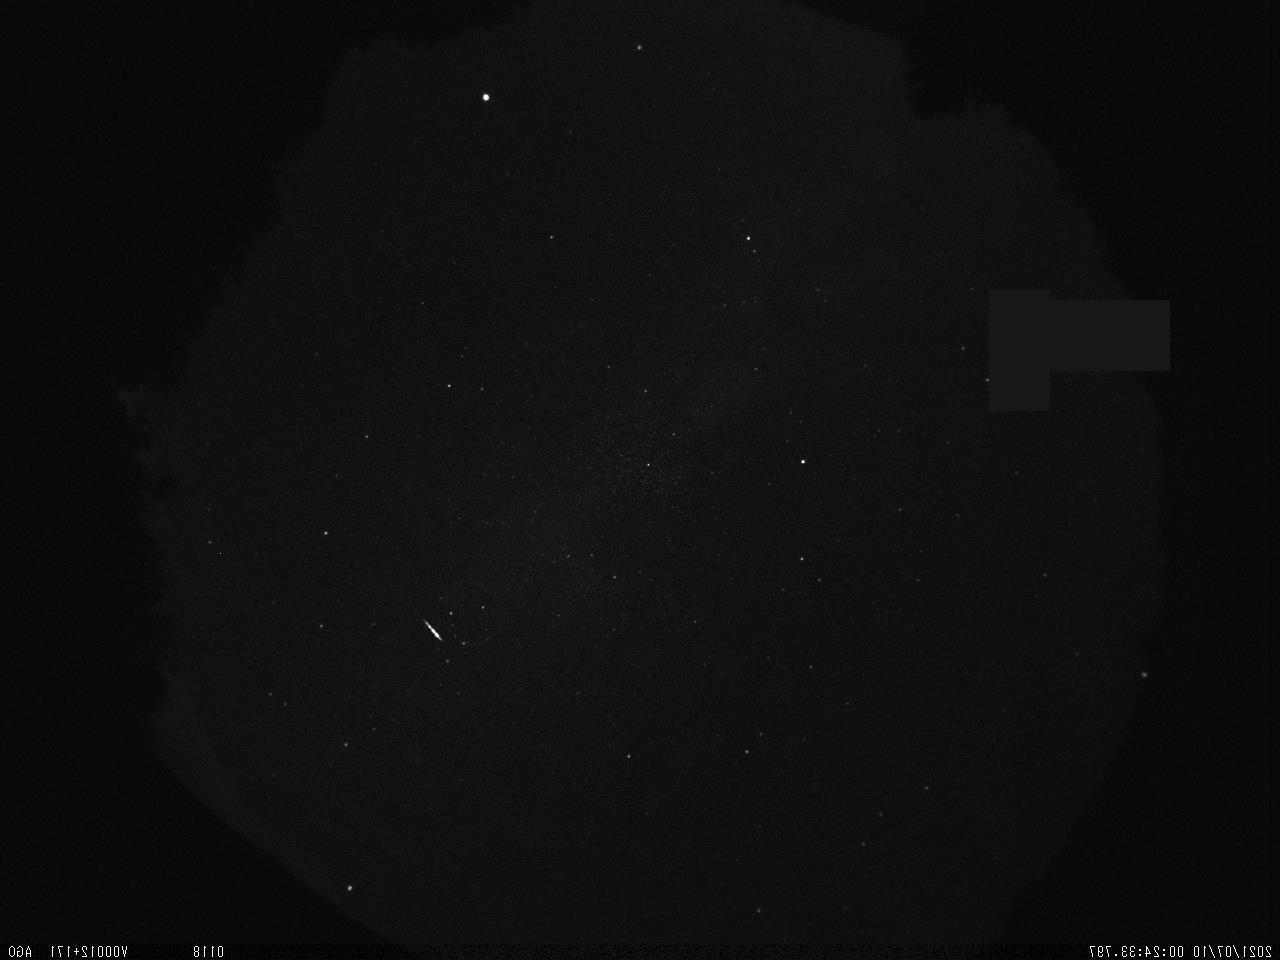meteor: (416, 609, 460, 661)
